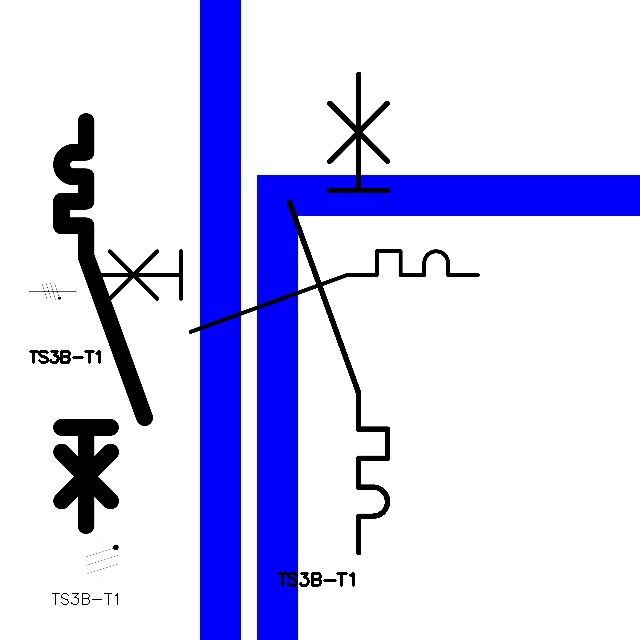interruptor_termomagnetico: (277, 62, 400, 565), (51, 111, 155, 535), (75, 241, 487, 342)
